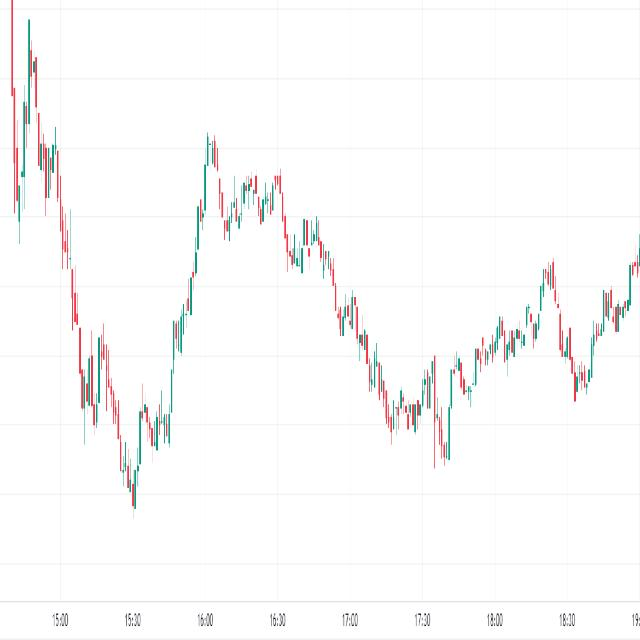Channel-down: (241, 92, 403, 482)
Inverse-Head-Shoulders: (46, 121, 210, 542)
